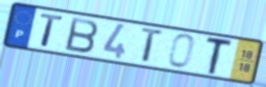0: (166, 32, 199, 70)
4: (101, 22, 128, 62)
B: (64, 16, 101, 55)
T: (204, 37, 235, 76), (38, 11, 65, 49), (139, 26, 166, 64)
